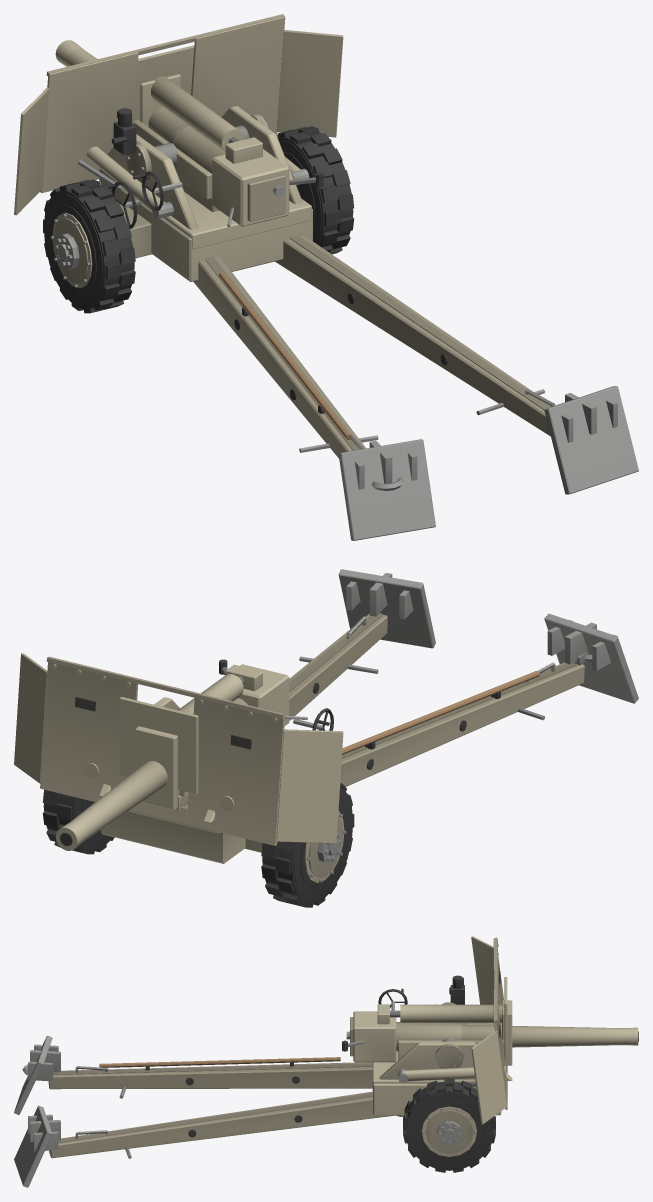
The model's file is usa_tow_m101.glb.
3 views of the same model, one above another, from view 1: azimuth 30°, elevation 25°; view 2: azimuth 150°, elevation 25°; view 3: azimuth 270°, elevation 25° (orthographic). The views are drawn at different scales.
Parts seen in each view (by area): view 1: body, turret, barrel, wheel_0, wheel_1; view 2: turret, body, barrel, wheel_0, wheel_1; view 3: body, barrel, turret, wheel_1.
Boxes of the visible parts, box(x1,y1,x2,y2) form: body: box(101, 174, 638, 540); turret: box(14, 14, 343, 249); barrel: box(55, 40, 323, 226); wheel_0: box(43, 179, 135, 313); wheel_1: box(276, 126, 354, 254); turret: box(14, 653, 343, 845); body: box(101, 569, 638, 863); barrel: box(55, 659, 307, 850); wheel_0: box(261, 783, 354, 907); wheel_1: box(42, 789, 114, 854); body: box(14, 1035, 501, 1187); barrel: box(342, 977, 638, 1067); turret: box(372, 936, 512, 1124); wheel_1: box(403, 1079, 495, 1172).
Bounding box in the file's own units: 2.6 × 1.72 × 6.09.
